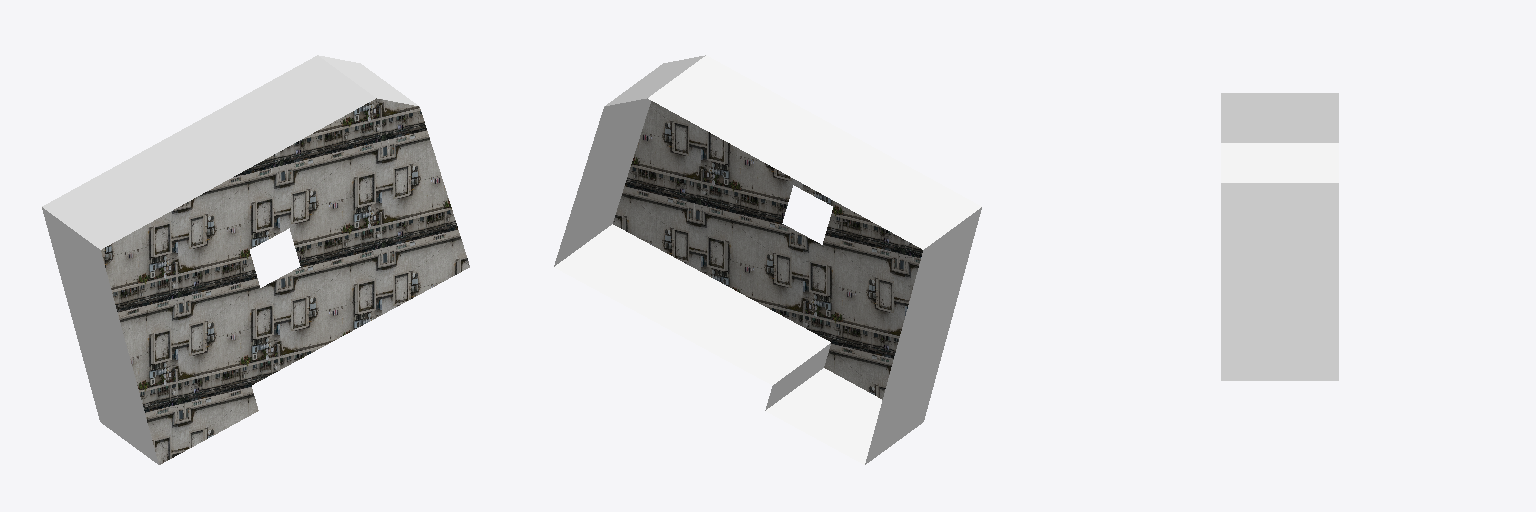
3 renders of one model, left to right at view 1: azimuth 30°, elevation 25°; view 2: azimuth 150°, elevation 25°; view 3: azimuth 270°, elevation 25°, orthographic.
Parts seen in each view (by area): view 1: Building; view 2: Building; view 3: Building.
Boxes of the visible parts, <box> form: Building: <box>42,55,469,464</box>; Building: <box>554,55,981,464</box>; Building: <box>1221,93,1338,380</box>.
Bounding box in the file's own units: 32.6 × 26.45 × 9.
Materials: 2 (1 with a texture image).